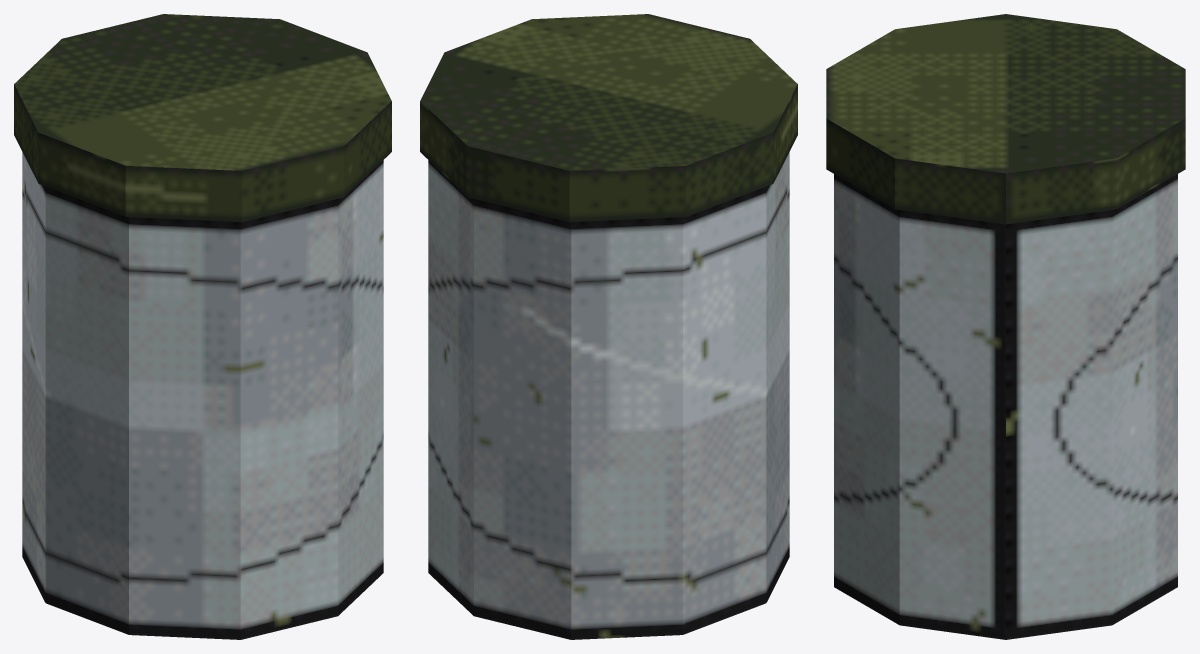
File: SM_Jar_Glass_01.fbx
3 renders of one model, left to right at view 1: azimuth 30°, elevation 25°; view 2: azimuth 150°, elevation 25°; view 3: azimuth 270°, elevation 25°, orthographic.
Parts seen in each view (by area): view 1: SM_Jar_Glass_01; view 2: SM_Jar_Glass_01; view 3: SM_Jar_Glass_01.
Boxes of the visible parts, x1=… form: SM_Jar_Glass_01: x1=14, y1=14, x2=391, y2=639; SM_Jar_Glass_01: x1=420, y1=14, x2=797, y2=639; SM_Jar_Glass_01: x1=826, y1=14, x2=1185, y2=639.
Size of the model in its own units: 0.094 by 0.129 by 0.0894.
1 material, 1 textured.
